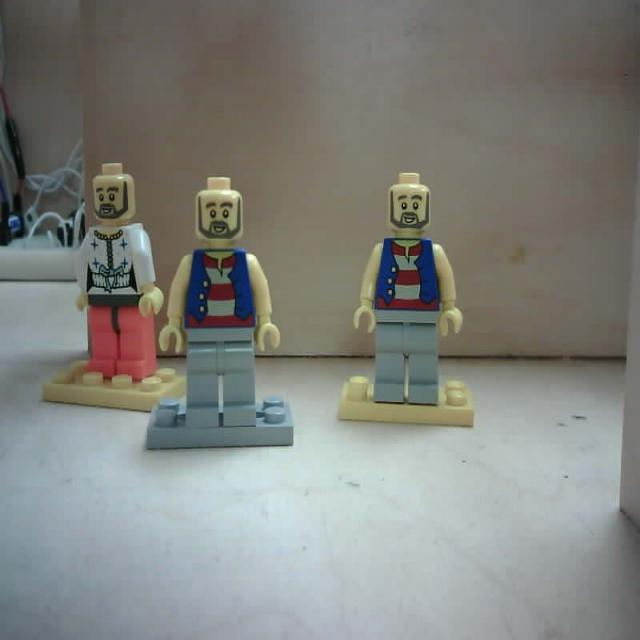Lego-People: (146, 175, 295, 457), (43, 163, 189, 414), (340, 171, 474, 433)
